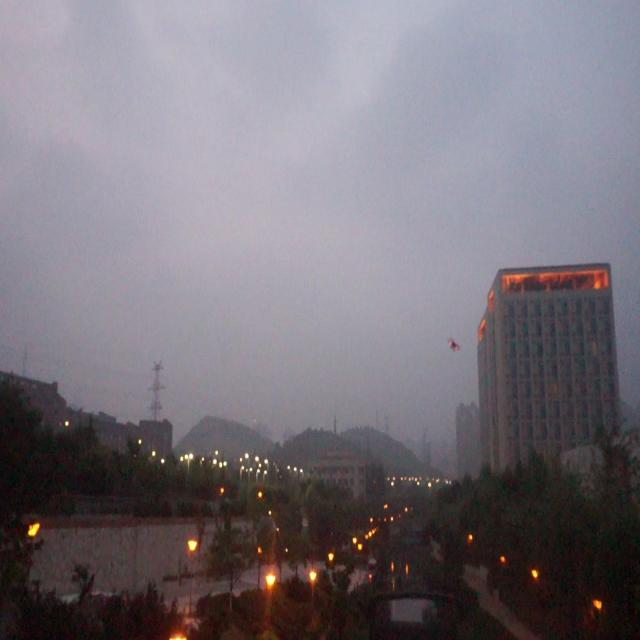drone: (446, 335, 462, 355)
